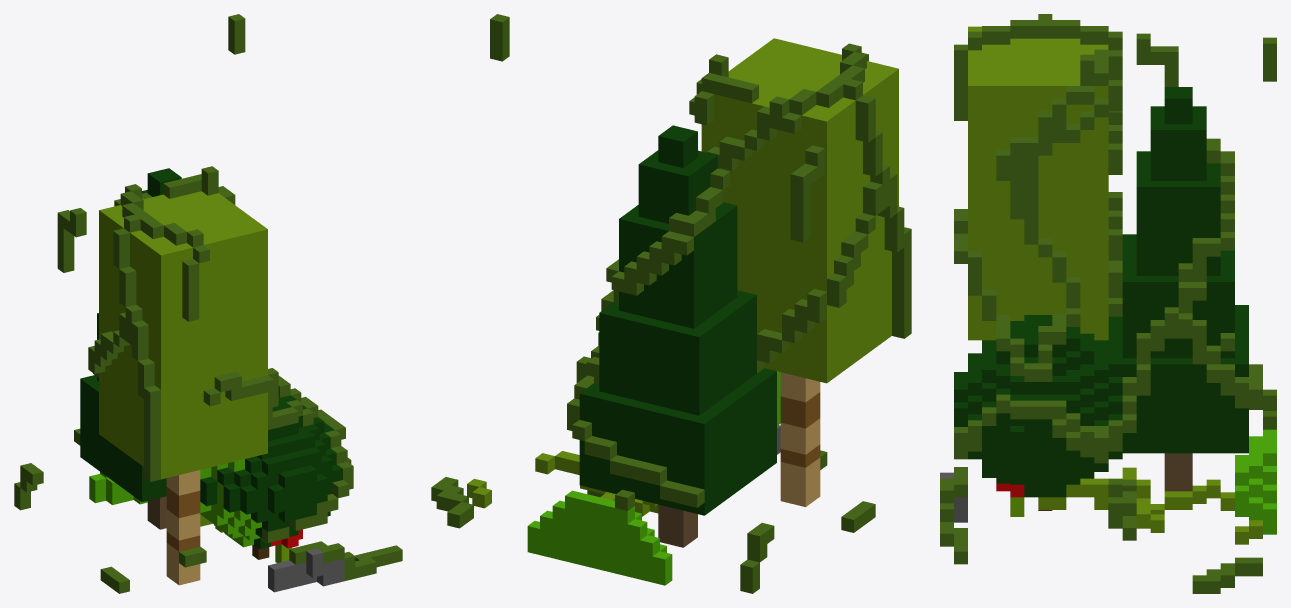
The model's file is tiles 0 morceau 3.obj.
3 views of the same model, side by side, from view 1: azimuth 30°, elevation 25°; view 2: azimuth 150°, elevation 25°; view 3: azimuth 270°, elevation 25° (orthographic). The views are drawn at different scales.
Parts seen in each view (by area): view 1: tiles 0 morceau 3; view 2: tiles 0 morceau 3; view 3: tiles 0 morceau 3.
Part boxes in pixels (x1,y1,x2,y2): tiles 0 morceau 3: (14, 14, 402, 593); tiles 0 morceau 3: (431, 14, 911, 593); tiles 0 morceau 3: (940, 14, 1276, 593).
Bounding box in the file's own units: 28 × 40 × 24.
1 material, 1 textured.
